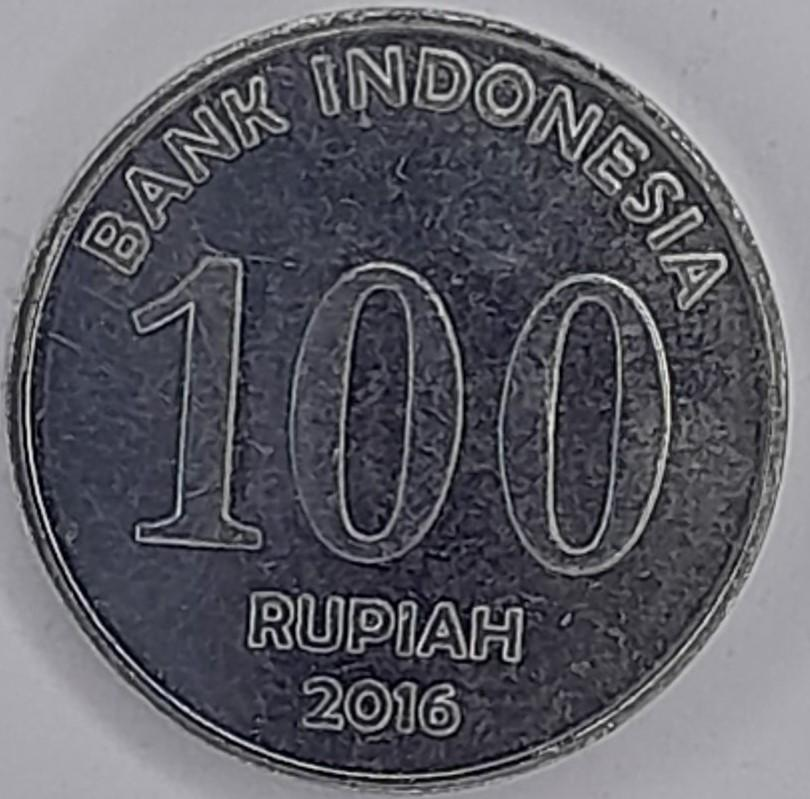coin_100_e2016: (0, 0, 795, 795)
